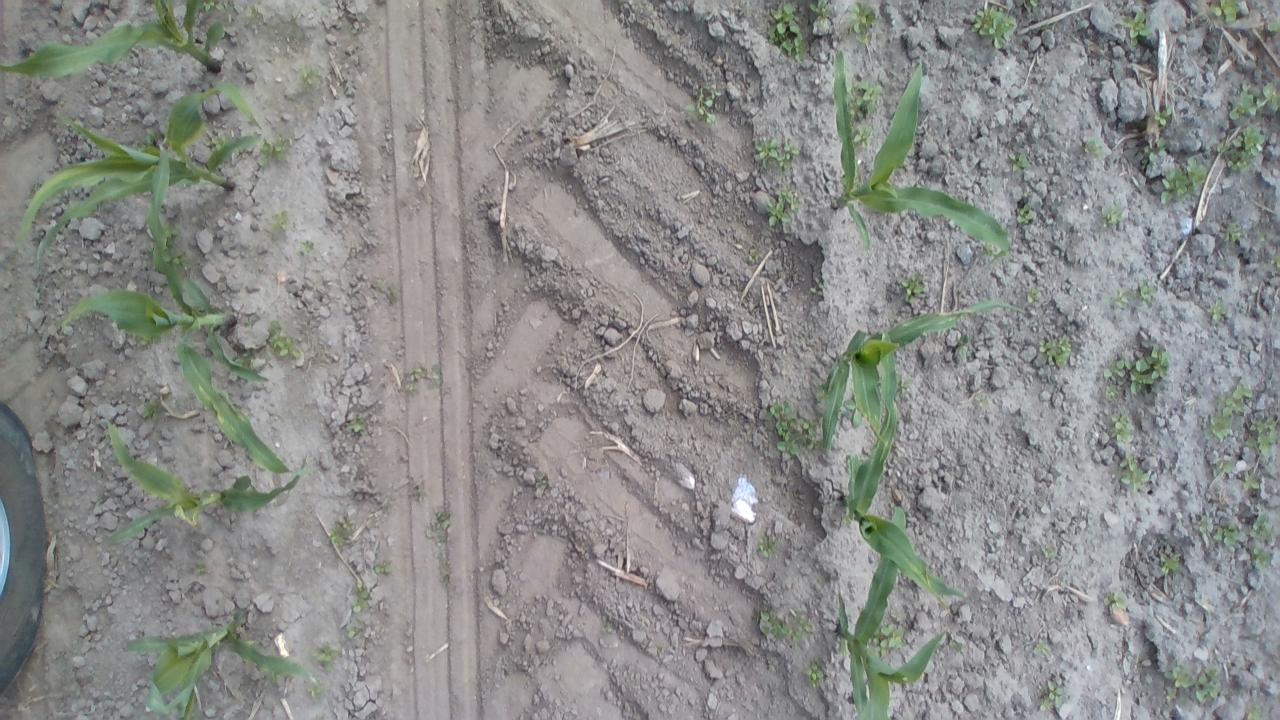Maize: (52, 187, 320, 480), (14, 82, 266, 267), (841, 308, 979, 612), (829, 46, 1012, 256), (818, 300, 1032, 456), (98, 415, 318, 548), (834, 504, 950, 719), (122, 608, 322, 720), (0, 0, 228, 81)
Weeds: (1194, 512, 1276, 570), (1102, 344, 1174, 402), (1206, 122, 1266, 172), (842, 78, 884, 148), (769, 402, 815, 460), (767, 1, 810, 62), (1154, 157, 1212, 202), (1206, 382, 1252, 438), (1166, 665, 1222, 707), (1224, 81, 1280, 118), (755, 610, 814, 643), (198, 0, 258, 32), (972, 8, 1018, 46), (752, 138, 799, 170), (764, 188, 801, 228), (1246, 414, 1276, 459), (848, 0, 878, 45), (1118, 450, 1153, 488), (681, 87, 718, 122), (1038, 334, 1074, 369), (871, 622, 906, 658), (266, 321, 298, 359), (256, 136, 292, 168), (1116, 12, 1148, 41), (425, 509, 453, 542), (1038, 679, 1064, 711), (1110, 410, 1136, 439), (329, 516, 352, 548), (900, 271, 926, 298), (810, 0, 836, 27), (348, 586, 372, 615), (1081, 136, 1107, 162), (314, 643, 339, 670), (266, 210, 294, 234), (1141, 137, 1167, 162), (1210, 1, 1244, 20), (404, 364, 426, 393), (1014, 198, 1036, 226), (1138, 279, 1158, 307), (1100, 590, 1128, 608), (756, 536, 776, 560), (1158, 554, 1184, 572), (301, 63, 324, 83), (1245, 701, 1267, 720), (1008, 151, 1030, 170), (1108, 289, 1127, 311), (1237, 473, 1260, 491), (1213, 460, 1237, 477), (343, 421, 368, 436), (1206, 302, 1224, 322), (1150, 108, 1174, 122), (806, 665, 822, 684), (1034, 640, 1050, 658), (428, 361, 440, 385), (602, 612, 616, 632), (373, 564, 393, 578), (306, 681, 322, 698), (1107, 206, 1122, 224), (1026, 283, 1040, 302), (1254, 231, 1270, 246), (1268, 250, 1280, 270), (1226, 228, 1244, 241), (346, 626, 361, 640), (300, 239, 314, 253), (1042, 544, 1056, 556), (1266, 20, 1278, 34)
